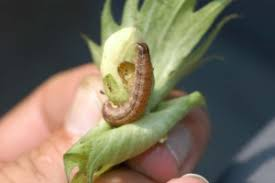Armyworm: (95, 31, 160, 131)
